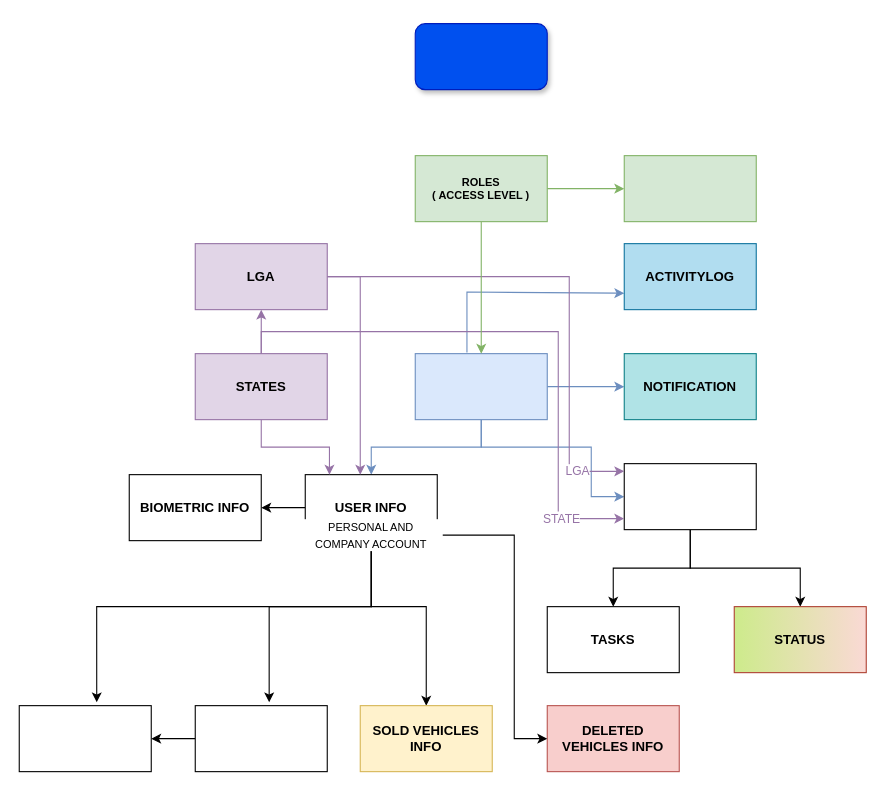
The diagram is 886 pixels wide and 791 high, and some of its shapes have lost their labels. The shapes that lost their labels are listed below. From the top down, each one's centre as x and y in pixels, then its label:
the point at 482,57: ContactMessage
the point at 689,188: CLAIMS ( ACCESS CONTROL )
the point at 480,386: ASPNET-USER
the point at 689,496: ADMIN INFO
the point at 84,738: DOCUMENTS
the point at 260,738: VEHICLE INFO
